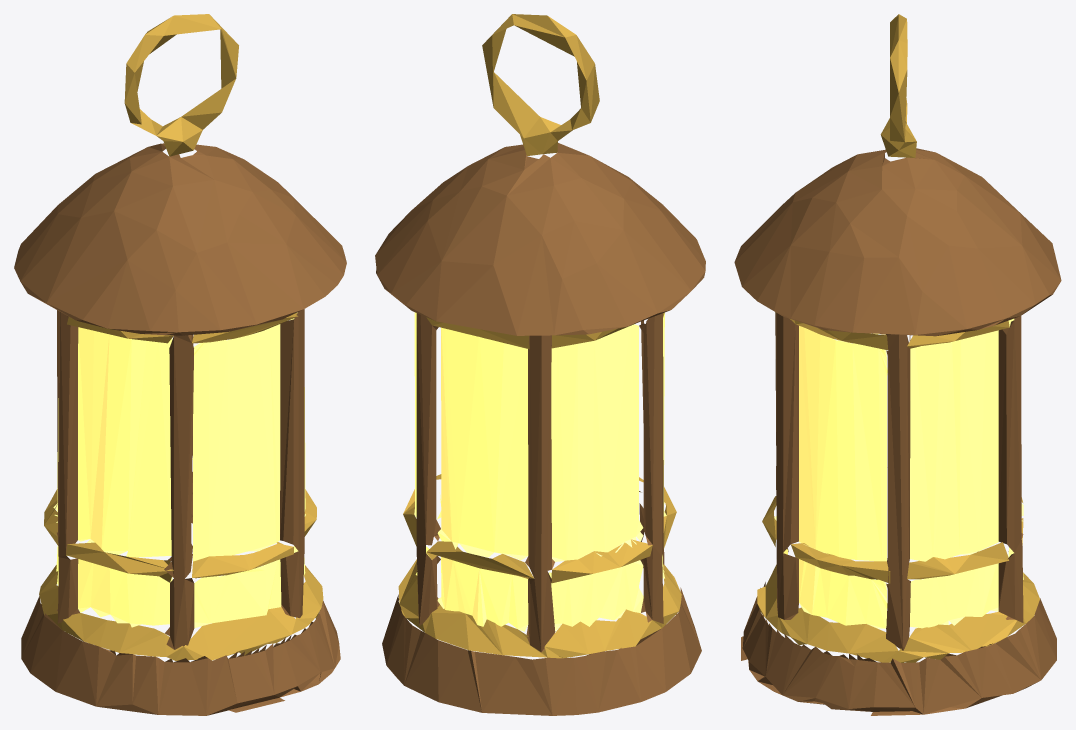
Rendered from lure_brass.glb.
The picture shows the model from 3 angles, left to right: view 1: azimuth 30°, elevation 25°; view 2: azimuth 150°, elevation 25°; view 3: azimuth 270°, elevation 25°; orthographic projection.
Parts seen in each view (by area): view 1: lure_brass; view 2: lure_brass; view 3: lure_brass.
Boxes of the visible parts, x1,y1,x2,y2 form: lure_brass: (14,14,346,715); lure_brass: (375,14,705,715); lure_brass: (734,14,1061,715).
Bounding box in the file's own units: 0.4074 × 0.8652 × 0.407.
